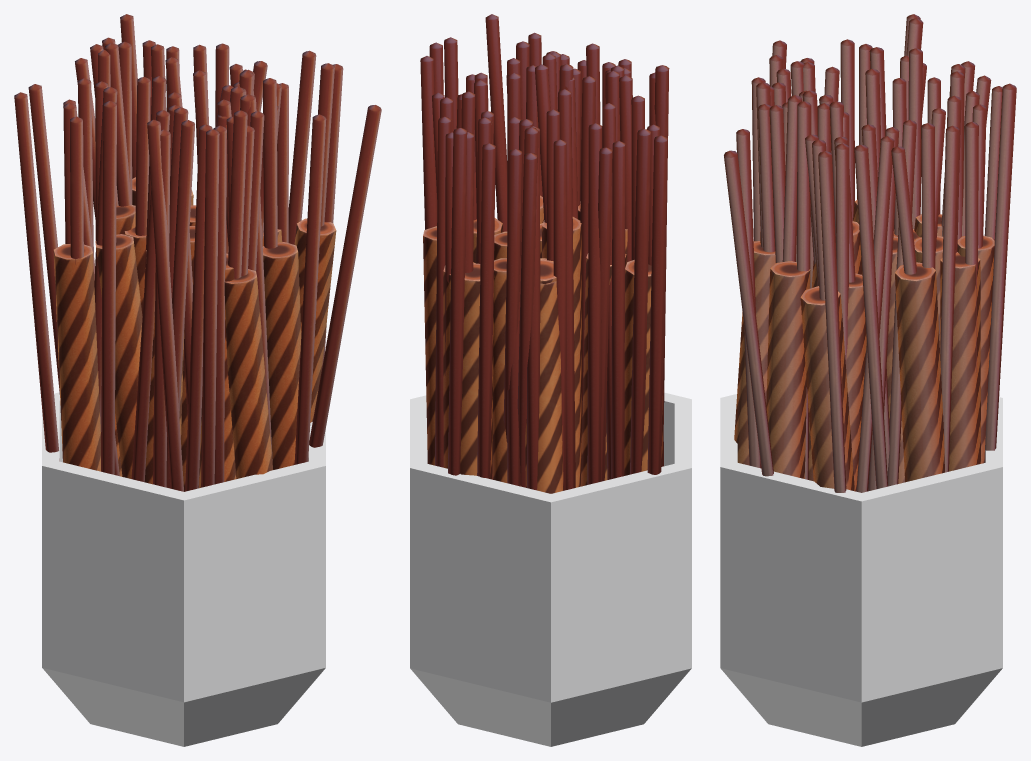
Rendered from sticks bowls.fbx.
The picture shows the model from 3 angles, left to right: view 1: azimuth 30°, elevation 25°; view 2: azimuth 150°, elevation 25°; view 3: azimuth 270°, elevation 25°; orthographic projection.
Parts seen in each view (by area): view 1: pocky_fill, Vaso_container, stripped_stick_fill; view 2: pocky_fill, Vaso_container, stripped_stick_fill; view 3: pocky_fill, Vaso_container, stripped_stick_fill.
Boxes of the visible parts, x1,y1,x2,y2 form: pocky_fill: (14, 14, 381, 491); Vaso_container: (42, 392, 325, 746); stripped_stick_fill: (53, 177, 336, 491); pocky_fill: (420, 14, 669, 490); Vaso_container: (410, 392, 691, 746); stripped_stick_fill: (423, 195, 663, 493); pocky_fill: (724, 14, 1016, 492); Vaso_container: (720, 394, 1002, 746); stripped_stick_fill: (734, 194, 994, 491).
Size of the model in its own units: 96.16 by 203 by 86.97.
